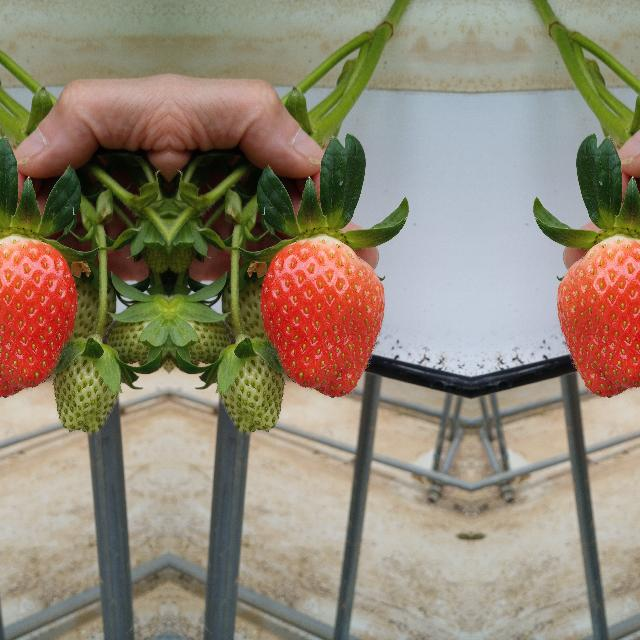Health_100: (258, 234, 384, 398), (557, 233, 640, 398), (0, 233, 77, 398)
Health_25: (168, 294, 234, 391), (102, 294, 168, 391), (226, 335, 284, 439), (52, 335, 110, 439)
